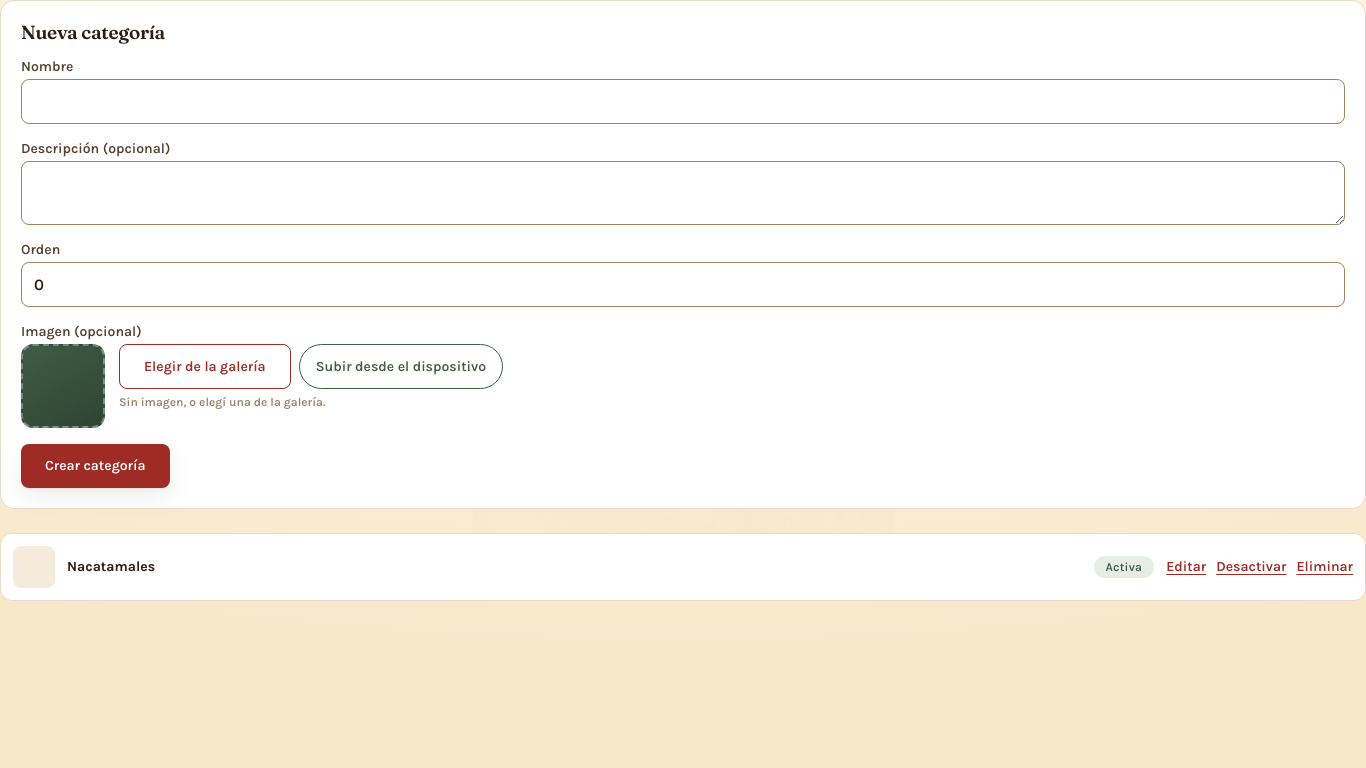
Test: CategoryManager › explica que la categoría todavía tiene productos
Expected: the text "Nacatamales" is shown, [67,558,155,575]
Click the button "Eliminar" at (1325, 567), box [1296,558,1353,575]
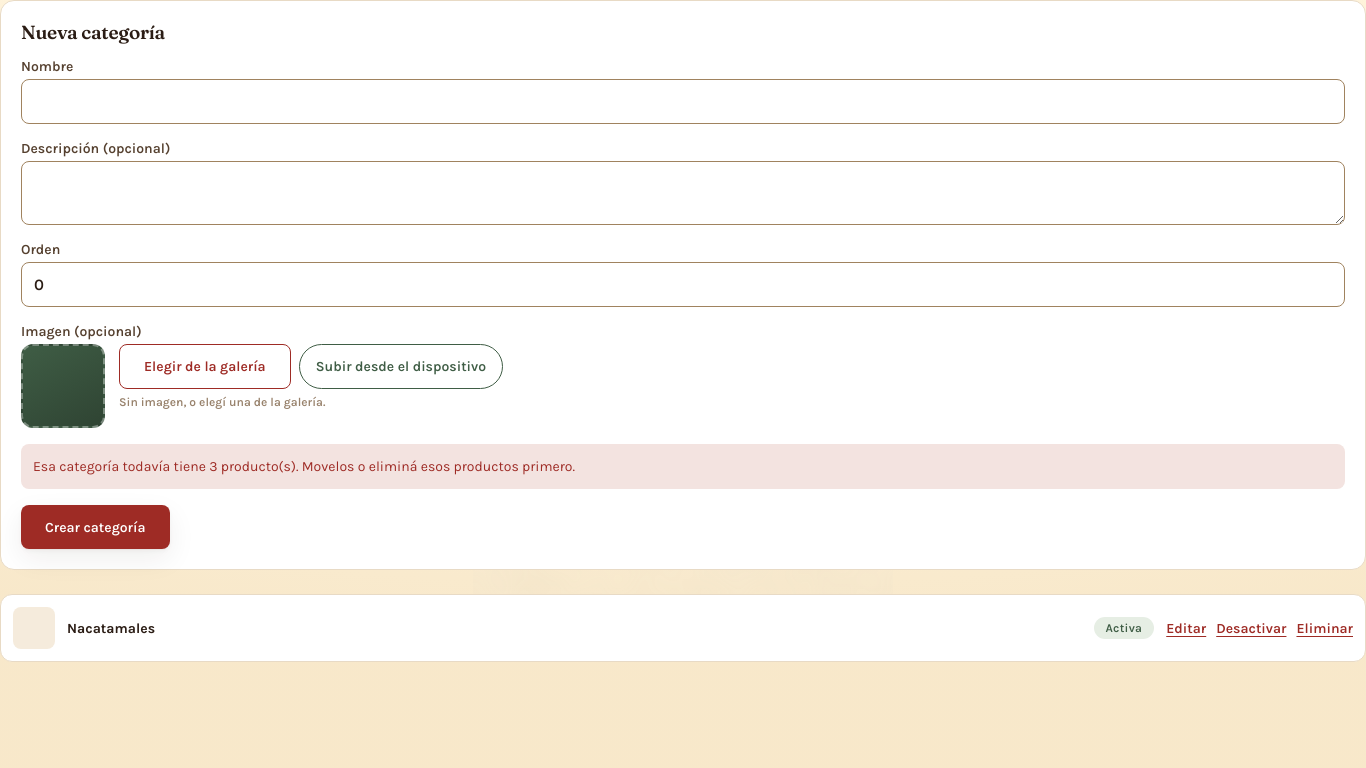
Result: the text "todavía tiene 3 producto" is shown at [33,458,575,475]
